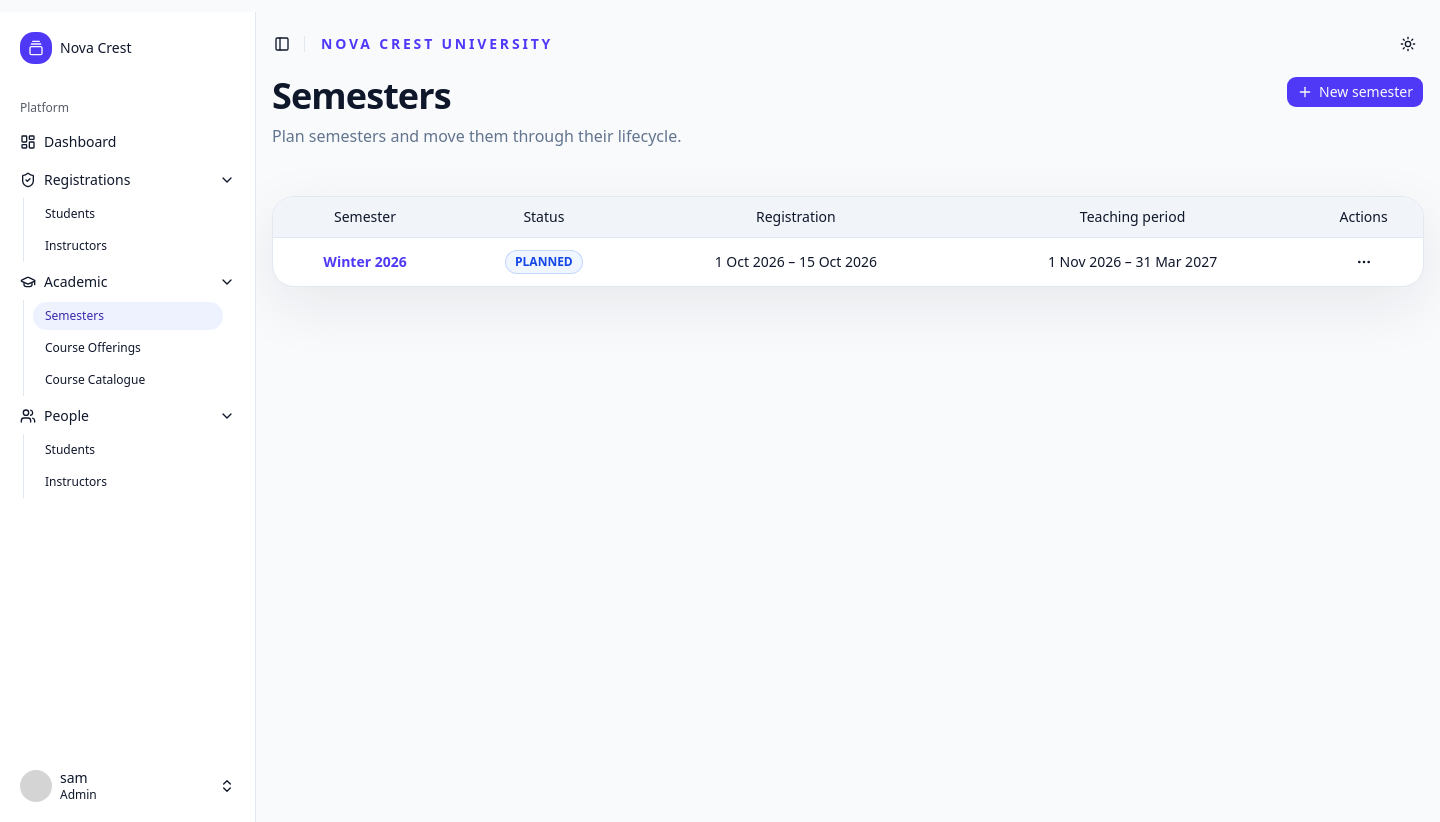
Scenario: SemestersView › shows the server message when a transition is rejected
Click the button without text in the row of "Winter 2026" at coordinates (1364, 262), box top-left (1348, 246), bottom-right (1380, 278)
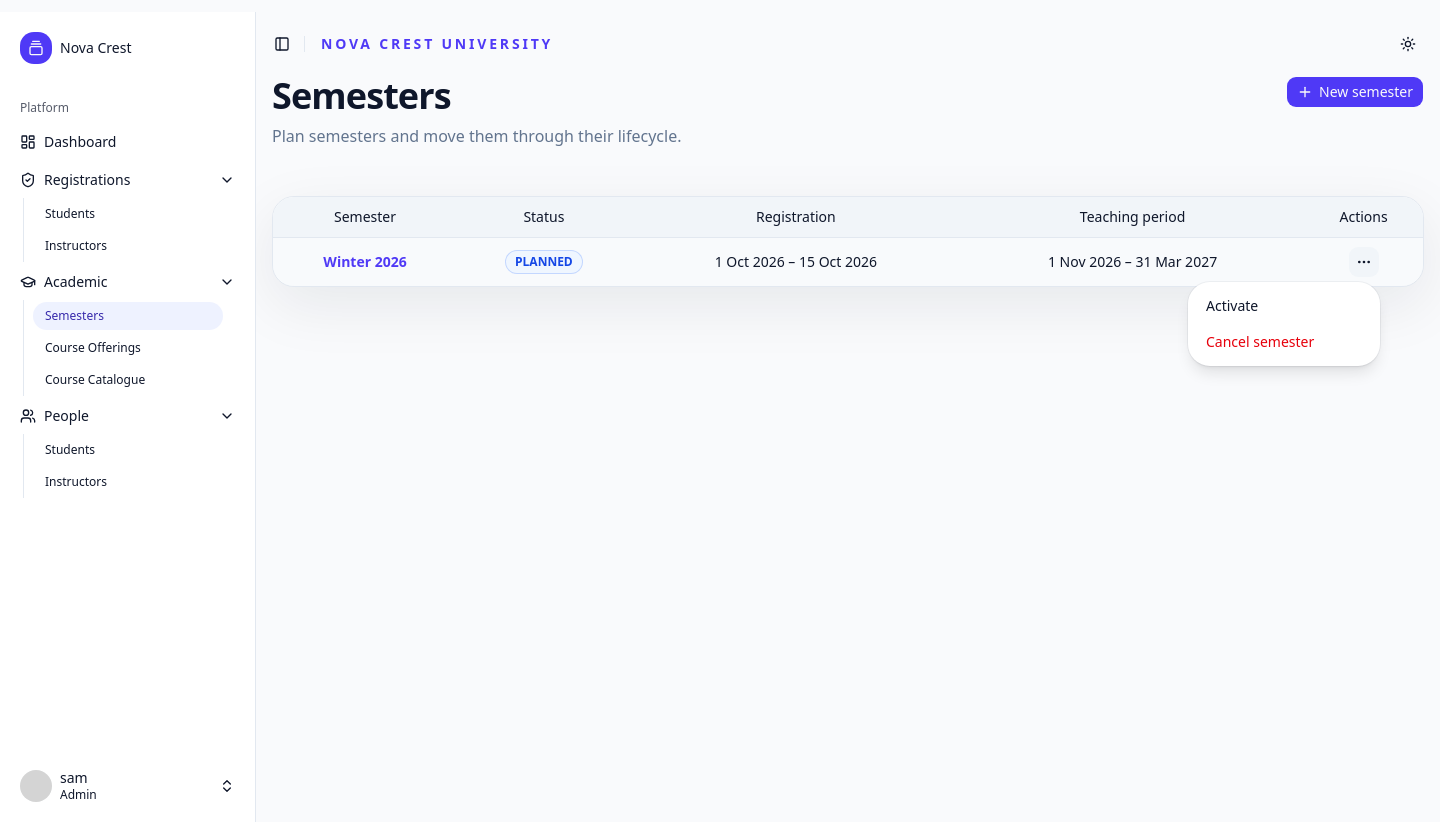
Click the menu item "Activate" at coordinates (1232, 306), box top-left (1206, 296), bottom-right (1258, 315)
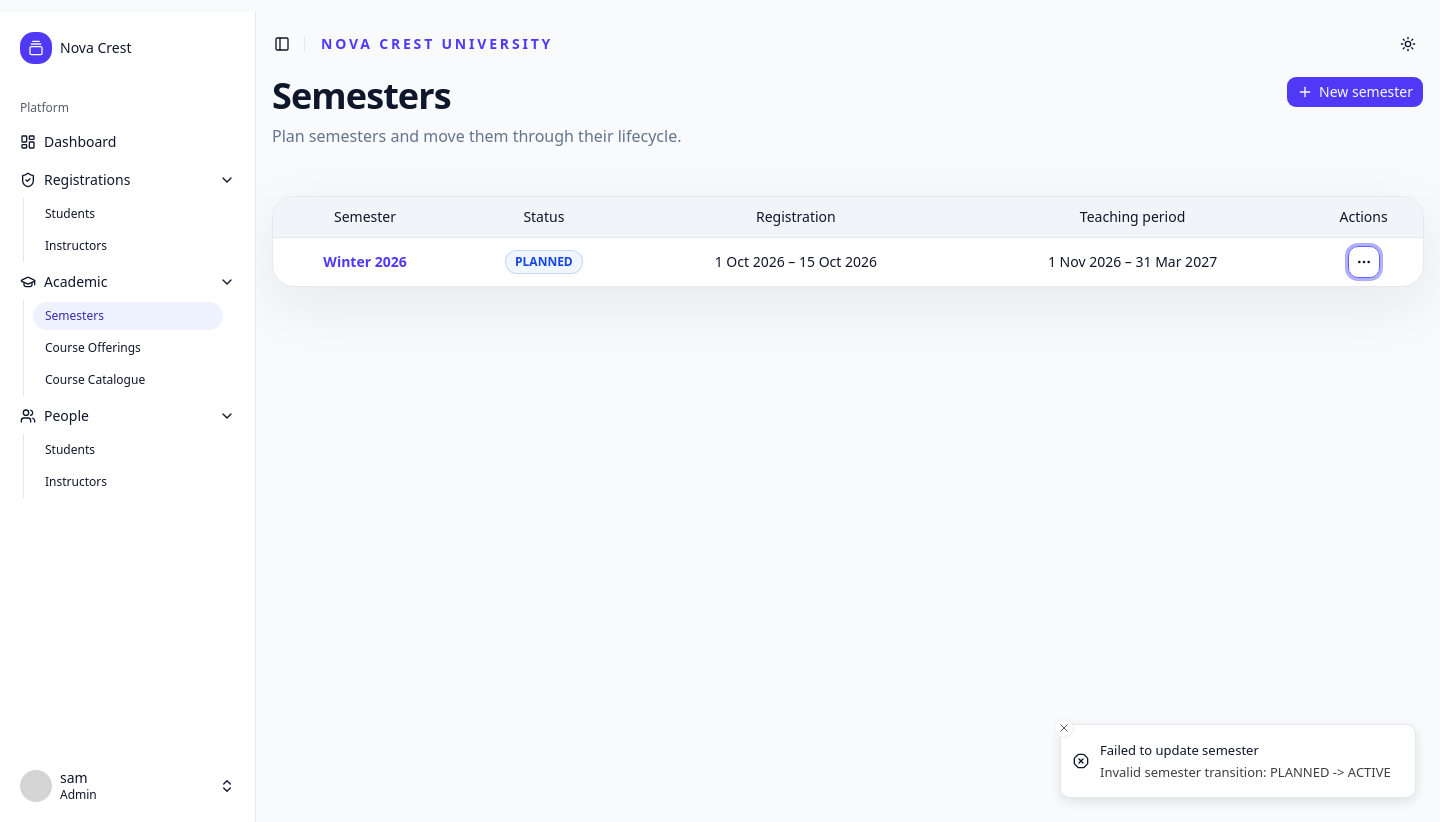
Expected: the text "Failed to update semester" is shown, top-left (1100, 741), bottom-right (1259, 759)
Expected: the text "Invalid semester transition: PLANNED -> ACTIVE" is shown, top-left (1100, 763), bottom-right (1391, 781)
